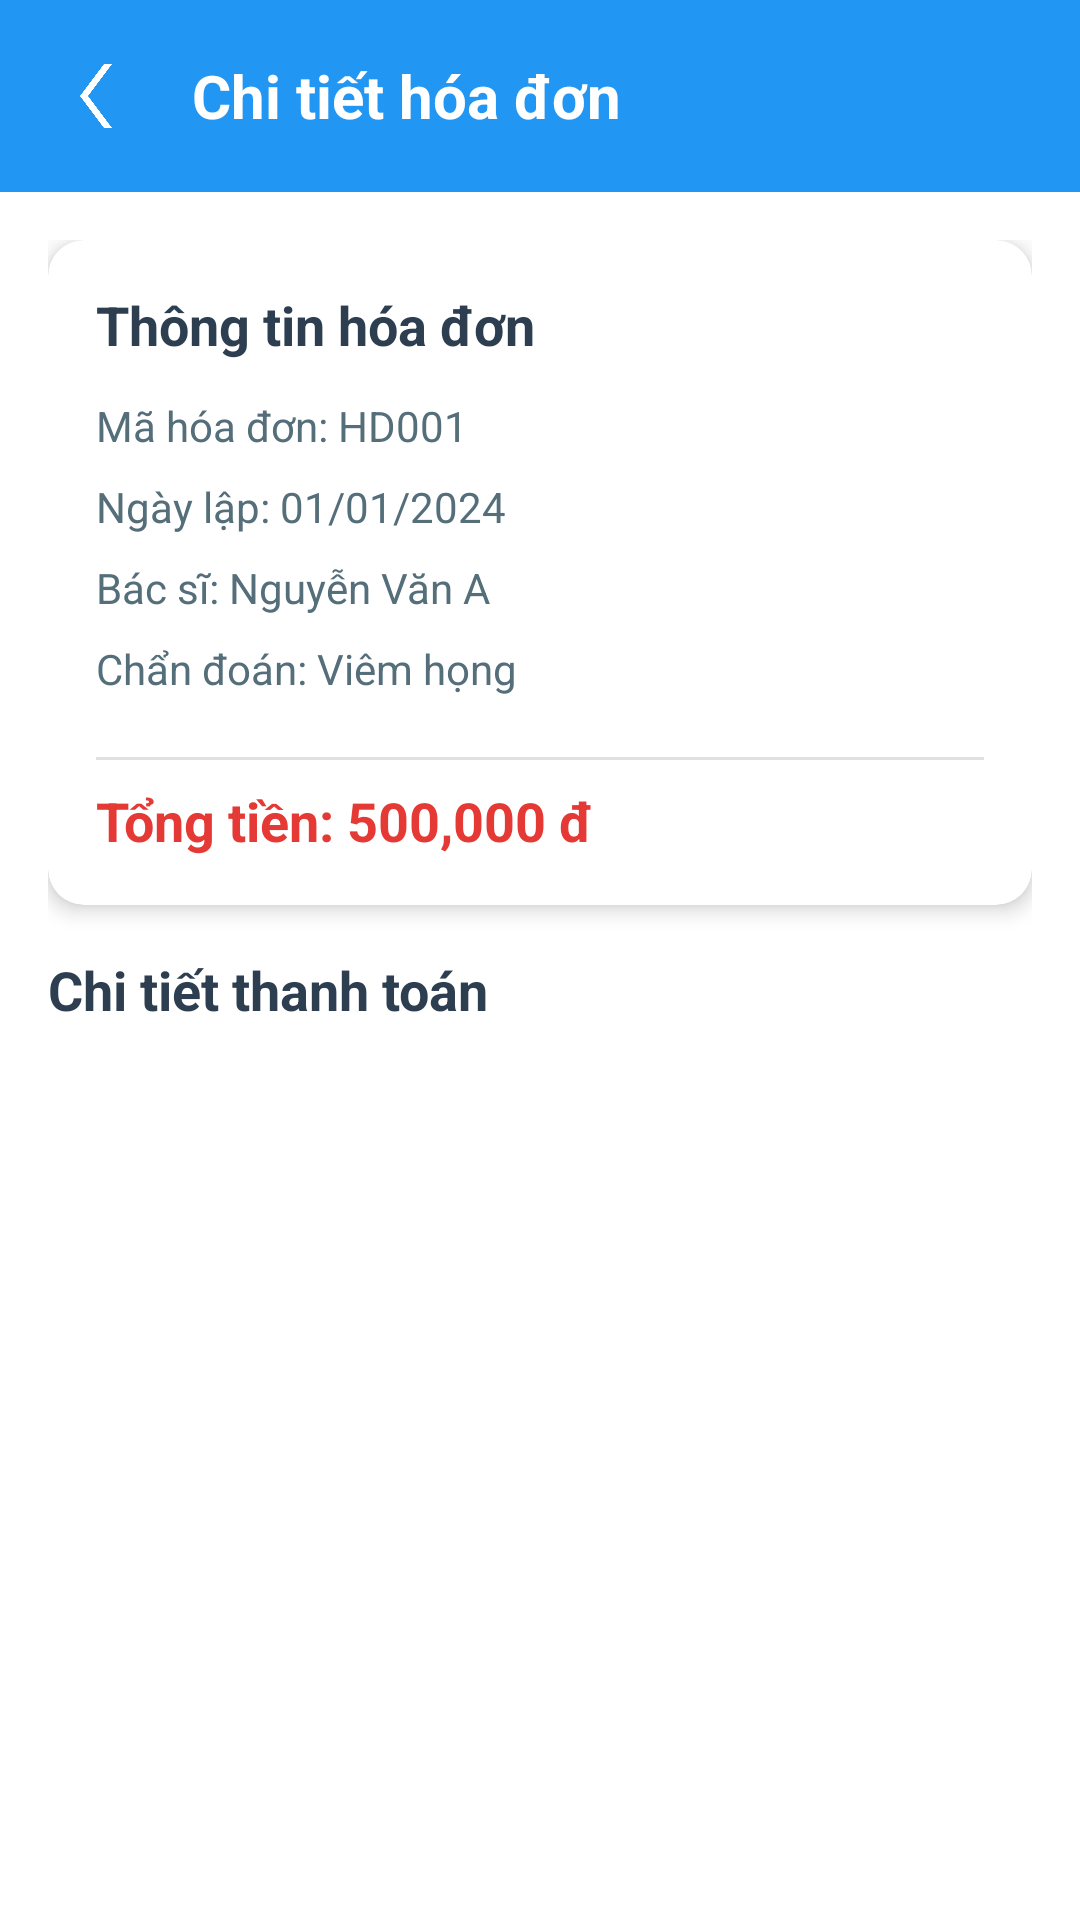

Named icons in this screenshot (1080x1920) and their centers, (x=x, y=y):
Quay lại: (x=96, y=96)
